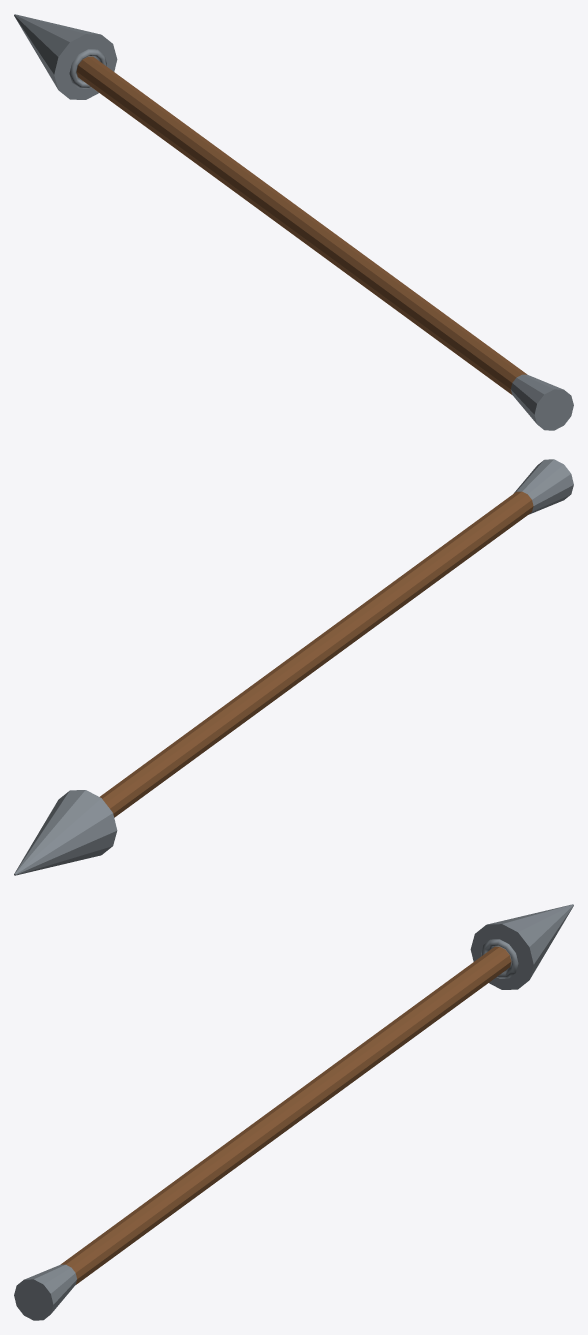
Rendered from WPN_Spear_A_TP_v01.glb.
3 views of the same model, one above another, from view 1: azimuth 30°, elevation 25°; view 2: azimuth 150°, elevation 25°; view 3: azimuth 330°, elevation 25° (orthographic).
Parts seen in each view (by area): view 1: MESH_Weapon; view 2: MESH_Weapon; view 3: MESH_Weapon.
Boxes of the visible parts, box(x1,y1,x2,y2) form: MESH_Weapon: box(14, 14, 573, 430); MESH_Weapon: box(14, 459, 573, 875); MESH_Weapon: box(14, 904, 573, 1320).
Size of the model in its own units: 0.144 by 0.144 by 2.13.
